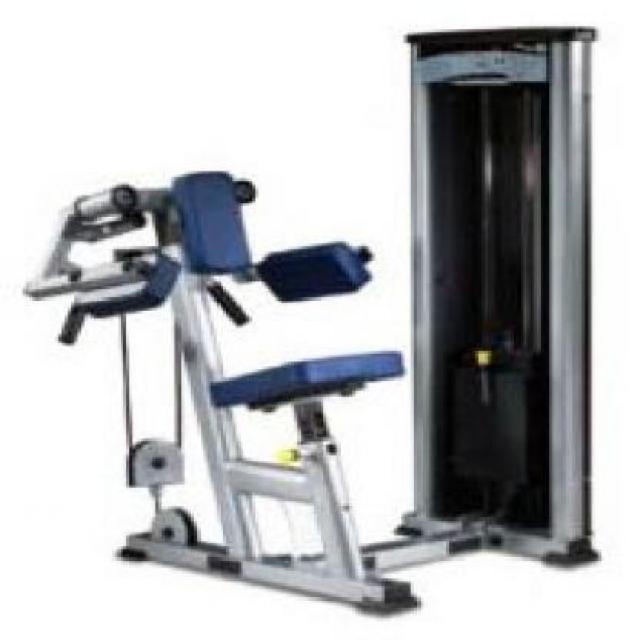lateral raises machine: (25, 170, 606, 616)
